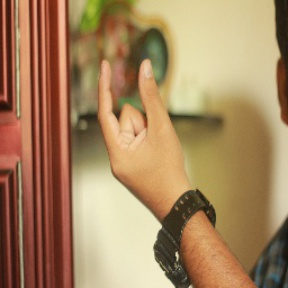U: (89, 50, 181, 178)
